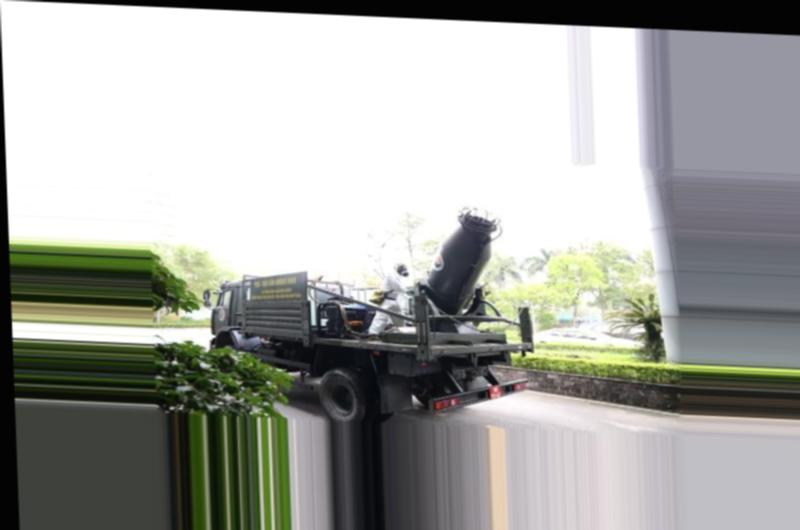License_Plate: (486, 383, 504, 401)
